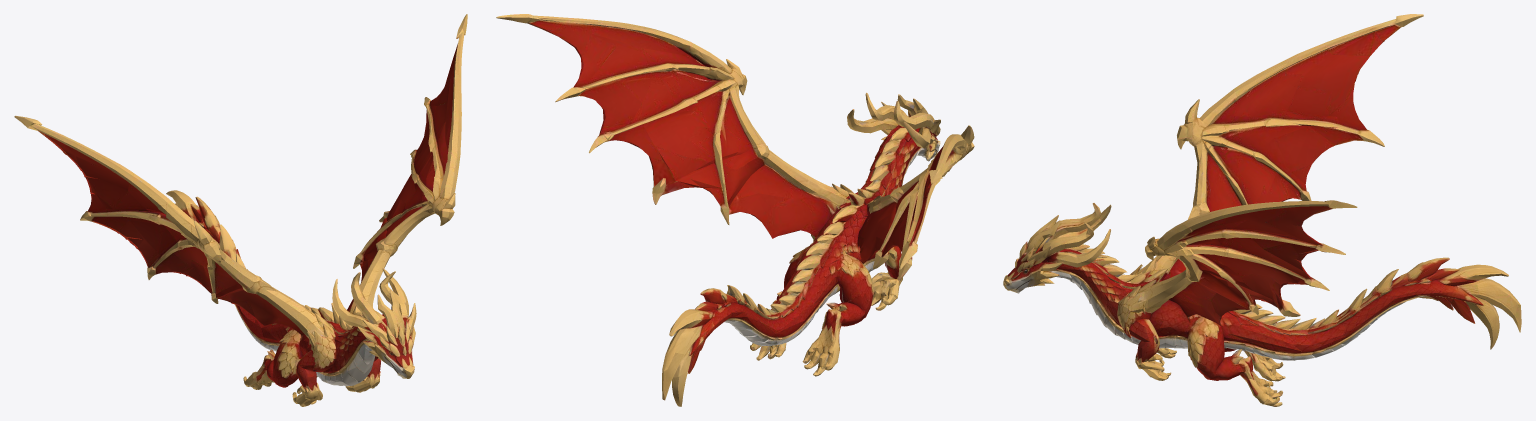
Rendered from flydragon.glb.
3 renders of one model, left to right at view 1: azimuth 30°, elevation 25°; view 2: azimuth 150°, elevation 25°; view 3: azimuth 270°, elevation 25°, orthographic. The views are drawn at different scales.
Bounding box in the file's own units: 1.88 × 1.22 × 1.9.
1 material, 1 textured.
